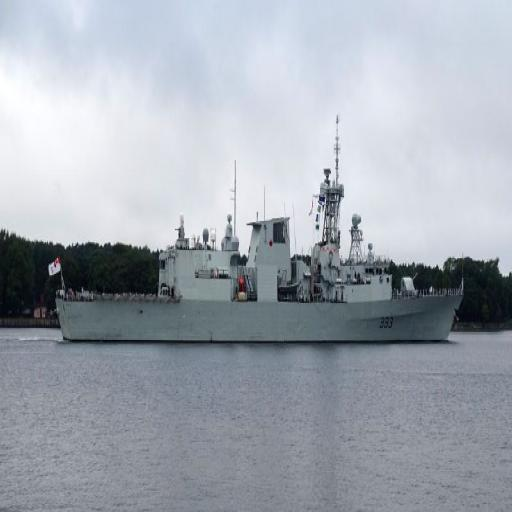Fragata: (48, 108, 467, 348)
